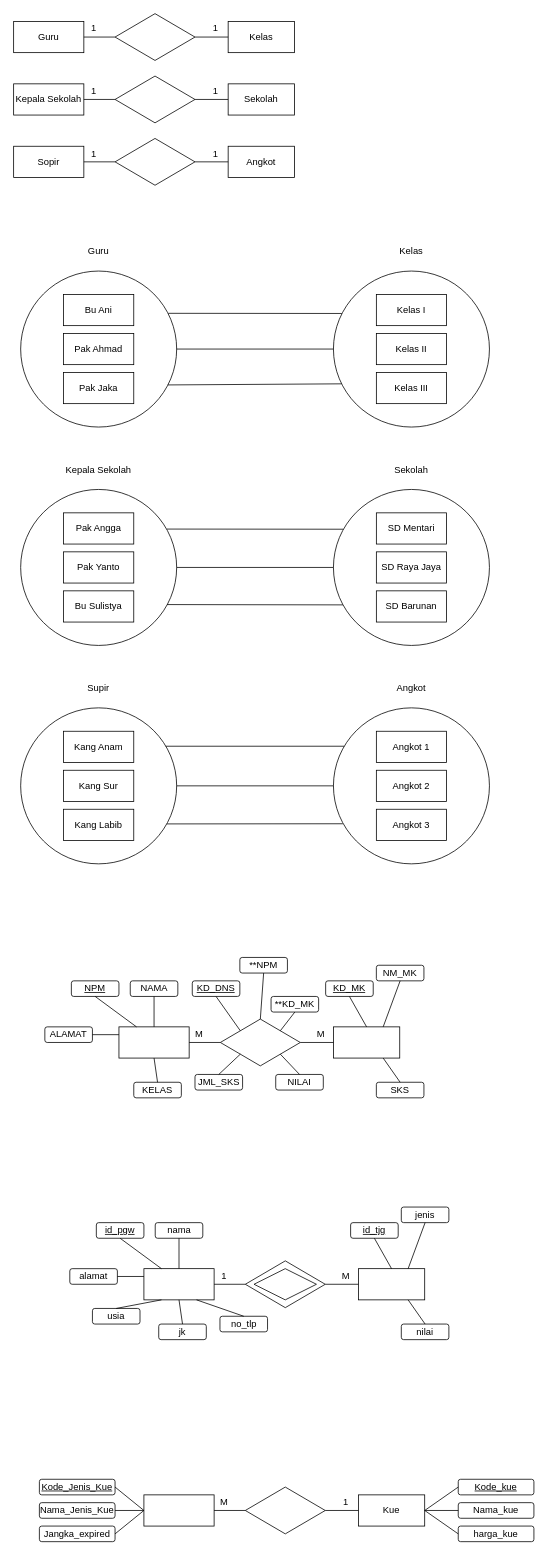
This 548x1555 diagram has some shape labels left out. The centre of each missing label's shape, as x and y in pixels:
"AMBIL" goes at point 260,1042.
"Dimiliki" goes at point 285,1510.
"Jenis_Kue" goes at point 178,1510.
"MAHASISWA" goes at point 153,1042.
"MATA_KULIAH" goes at point 366,1042.
"Mengendarai" goes at point 154,161.
"Mengepalai" goes at point 154,99.
"Menjadi Wali" goes at point 154,36.
"pegawai" goes at point 178,1284.
"punya" goes at point 284,1284.
"tunjangan" goes at point 391,1284.
